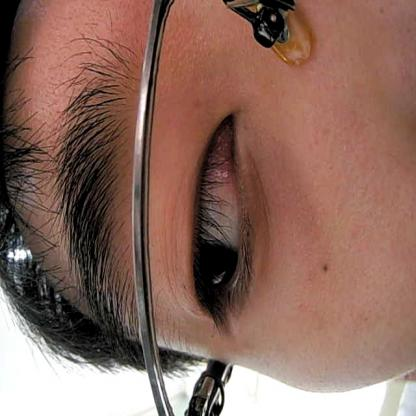Right: (170, 97, 268, 331)
